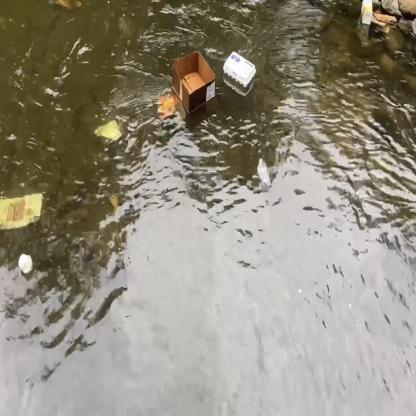trash: (168, 48, 216, 116), (0, 184, 50, 236), (220, 48, 258, 94), (366, 6, 400, 40), (92, 116, 124, 149), (155, 90, 180, 123), (256, 154, 273, 191), (16, 250, 34, 279), (358, 0, 376, 29)
